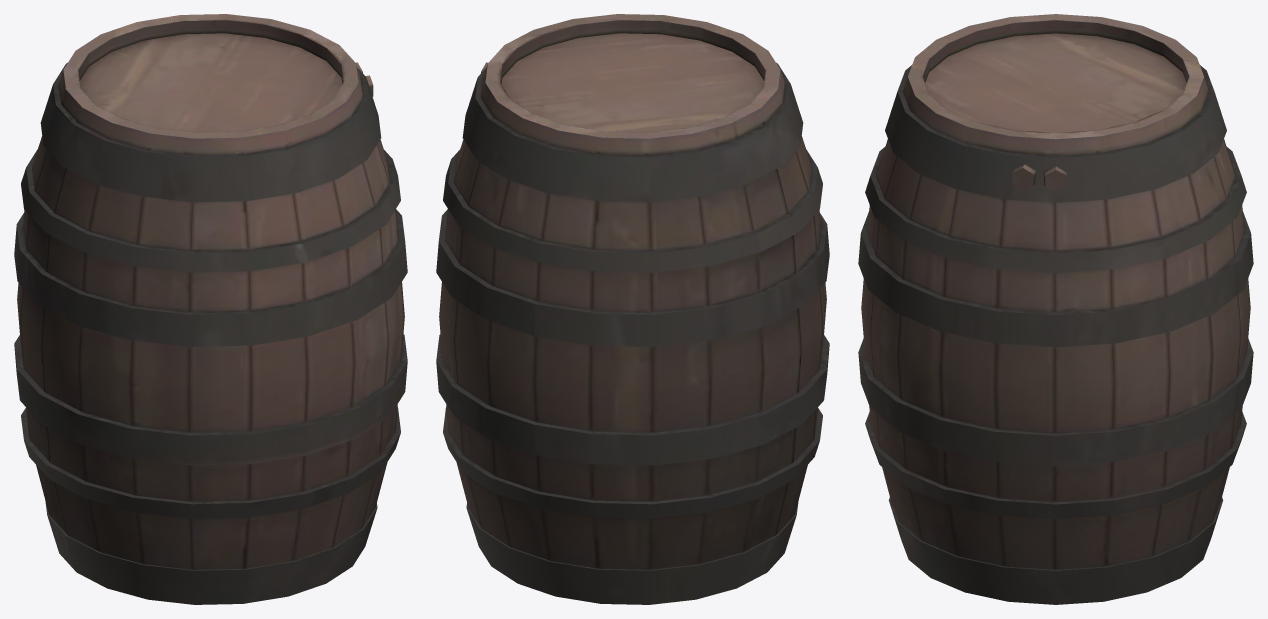
3 views of the same model, side by side, from view 1: azimuth 30°, elevation 25°; view 2: azimuth 150°, elevation 25°; view 3: azimuth 270°, elevation 25° (orthographic).
Visible parts, largest first — view 1: body0_model0_lod0_mesh0; view 2: body0_model0_lod0_mesh0; view 3: body0_model0_lod0_mesh0.
Boxes of the visible parts, x1,y1,x2,y2 form: body0_model0_lod0_mesh0: (14, 14, 407, 604); body0_model0_lod0_mesh0: (436, 14, 829, 604); body0_model0_lod0_mesh0: (858, 14, 1253, 604).
Size of the model in its own units: 46.43 by 59.99 by 46.43.
1 material, 1 textured.
